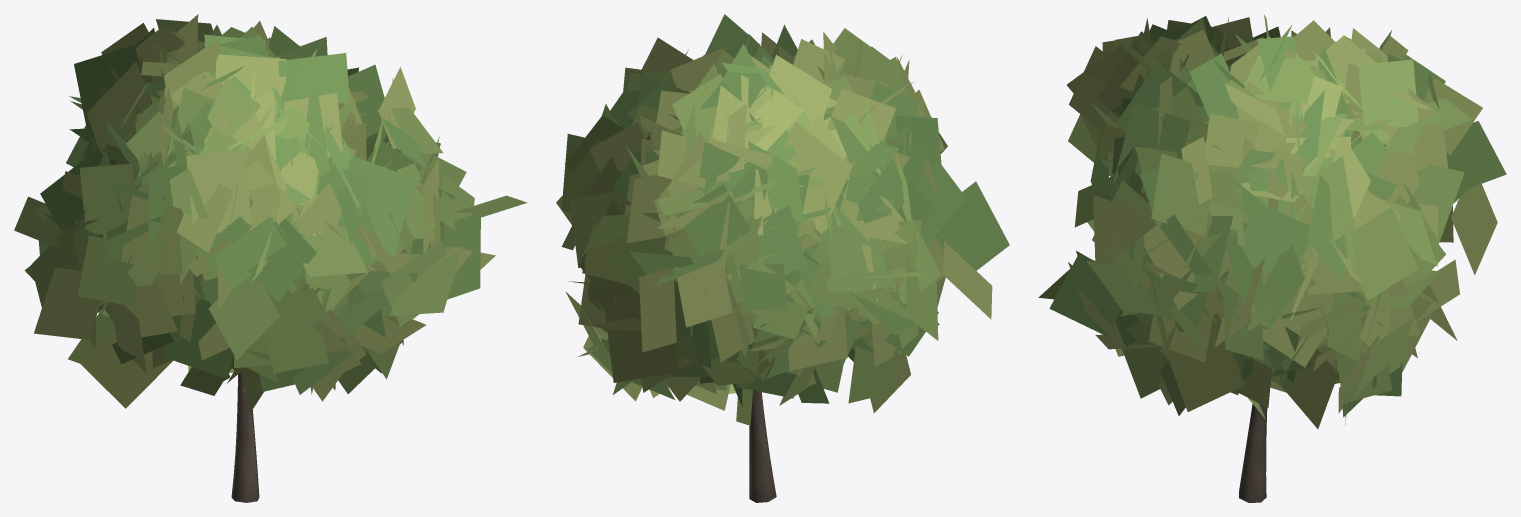
File: maple_1.glb
The picture shows the model from 3 angles, left to right: view 1: azimuth 30°, elevation 25°; view 2: azimuth 150°, elevation 25°; view 3: azimuth 270°, elevation 25°; orthographic projection. The views are drawn at different scales.
Parts seen in each view (by area): view 1: maple_1; view 2: maple_1; view 3: maple_1.
Part boxes in pixels (bbox=[...]): maple_1: bbox=[14, 14, 527, 502]; maple_1: bbox=[556, 14, 1009, 502]; maple_1: bbox=[1038, 14, 1506, 502].
Size of the model in its own units: 1 by 1 by 0.9054.
